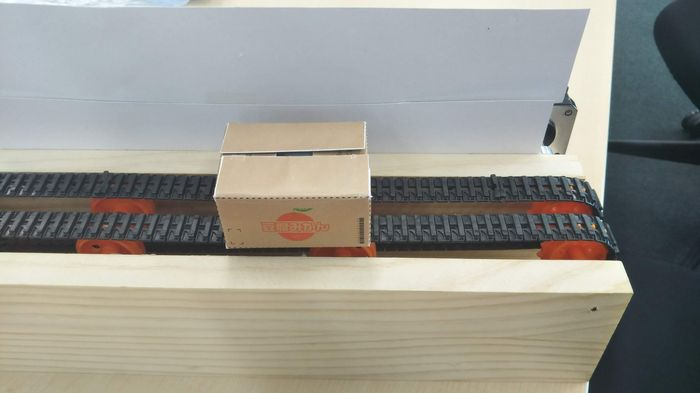box1: (213, 117, 374, 252)
